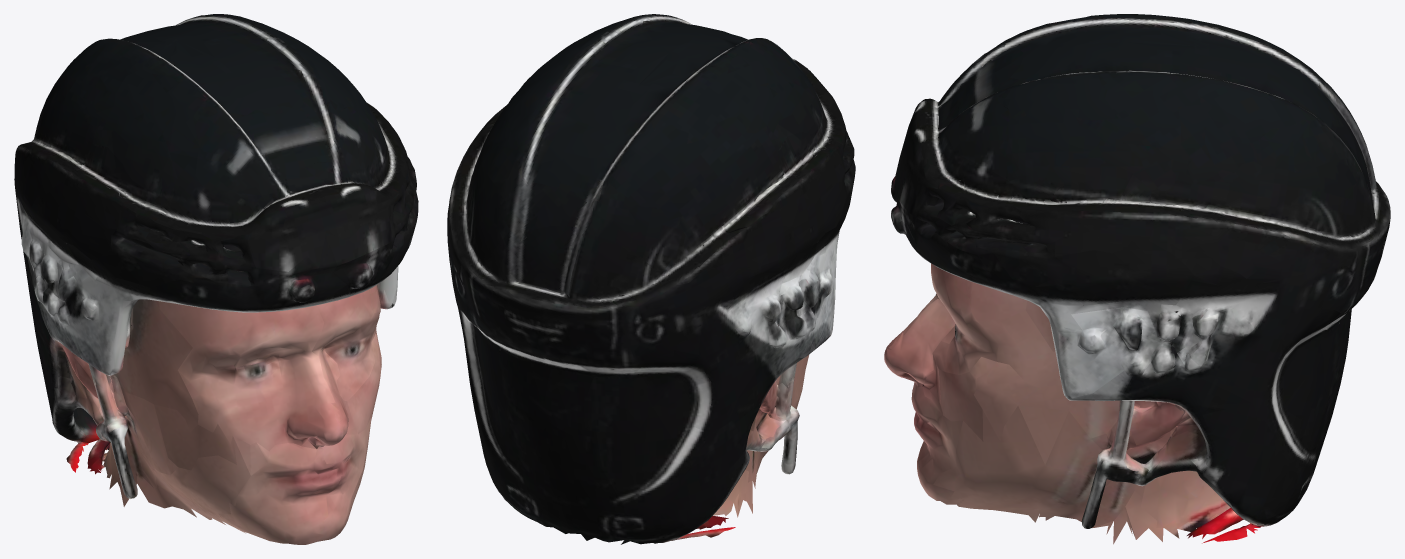
The model's file is head_C.glb.
3 views of the same model, side by side, from view 1: azimuth 30°, elevation 25°; view 2: azimuth 150°, elevation 25°; view 3: azimuth 270°, elevation 25° (orthographic). The views are drawn at different scales.
Visible parts, largest first — view 1: head; view 2: head; view 3: head.
Part boxes in pixels (bbox=[...]): head: bbox=[14, 14, 418, 544]; head: bbox=[447, 14, 855, 544]; head: bbox=[884, 14, 1390, 544].
Size of the model in its own units: 0.2232 by 0.2881 by 0.2892.
Materials: 1 (1 with a texture image).
